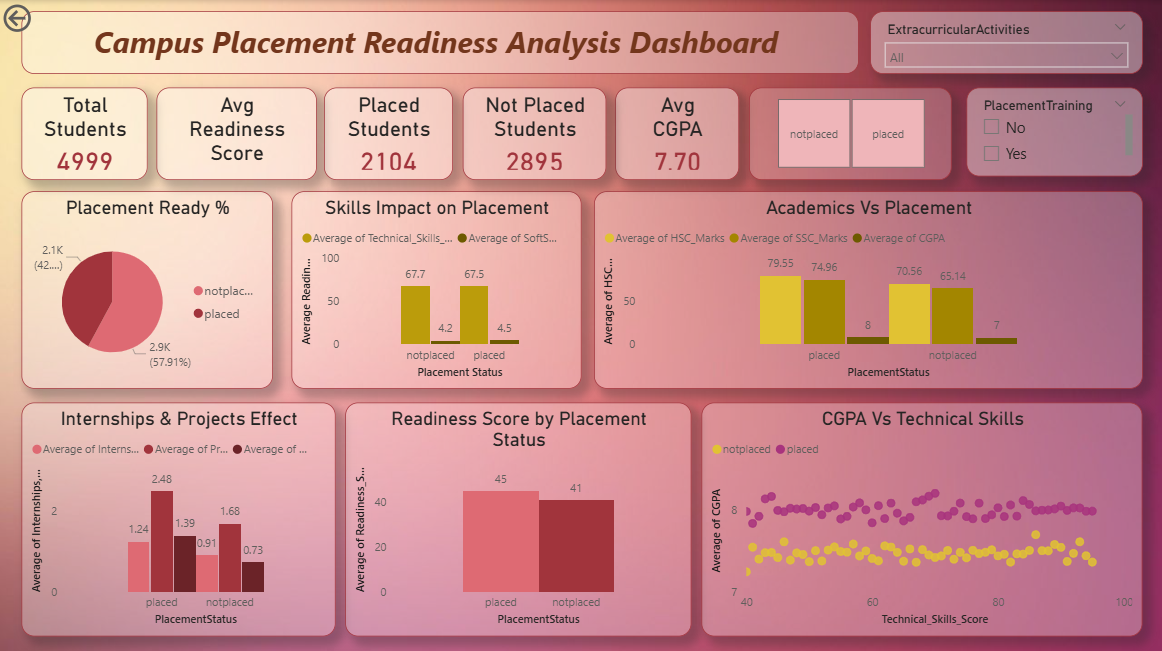

This screenshot's page, from the dashboard's own definition file:
{"tool":"powerbi","page":{"name":"Page 1","canvas":[1280,720],"ordinal":0},"visuals":[{"type":"textbox","box":[24.7,12.3,919.4,68.6],"z":0},{"type":"card","title":"Total Students","fields":{"Values":["Count(campus_placement_cleaned_final.StudentID)"]},"box":[24.7,96.1,138.6,101.5],"z":1000},{"type":"card","title":"Avg Readiness Score","fields":{"Values":["Avg(campus_placement_cleaned_final.Readiness_Score)"]},"box":[172.9,96.1,175.6,101.5],"z":2000},{"type":"card","title":"Placed Students","fields":{"Values":["CountNonNull(campus_placement_cleaned_final.StudentID)"]},"box":[356.8,96.1,141.3,101.5],"z":3000},{"type":"card","title":"Avg CGPA","fields":{"Values":["Avg(campus_placement_cleaned_final.CGPA)"]},"box":[676.5,96.1,135.8,101.5],"z":4000},{"type":"pieChart","title":" Placement Ready %","fields":{"Category":["campus_placement_cleaned_final.PlacementStatus"],"Y":["CountNonNull(campus_placement_cleaned_final.StudentID)"]},"box":[24.7,209.9,275.8,216.8],"z":5000},{"type":"slicer","fields":{"Values":["campus_placement_cleaned_final.PlacementStatus"]},"box":[823.3,96.1,222.3,101.5],"z":6000},{"type":"clusteredColumnChart","title":"Skills Impact on Placement","fields":{"Category":["campus_placement_cleaned_final.PlacementStatus"],"Y":["Avg(campus_placement_cleaned_final.Technical_Skills_Score)","Avg(campus_placement_cleaned_final.SoftSkillsRating)"]},"box":[321.1,209.9,318.4,216.8],"z":7000},{"type":"actionButton","box":[0,0,100,40],"z":8000},{"type":"clusteredColumnChart","title":"Academics Vs Placement","fields":{"Y":["Avg(campus_placement_cleaned_final.HSC_Marks)","Avg(campus_placement_cleaned_final.SSC_Marks)","Avg(campus_placement_cleaned_final.CGPA)"],"Category":["campus_placement_cleaned_final.PlacementStatus"]},"box":[653.2,209.9,602.4,216.8],"z":9000},{"type":"card","title":"Not Placed Students","fields":{"Values":["CountNonNull(campus_placement_cleaned_final.StudentID)"]},"box":[509.1,96.1,157.8,101.5],"z":10000},{"type":"clusteredColumnChart","title":"Internships & Projects Effect","fields":{"Category":["campus_placement_cleaned_final.PlacementStatus"],"Y":["Avg(campus_placement_cleaned_final.Internships)","Avg(campus_placement_cleaned_final.Projects)","Avg(campus_placement_cleaned_final.Workshops/Certifications)"]},"box":[24.7,441.9,344.4,256.6],"z":11000},{"type":"clusteredColumnChart","title":"Readiness Score by Placement Status","fields":{"Category":["campus_placement_cleaned_final.PlacementStatus"],"Y":["Avg(campus_placement_cleaned_final.Readiness_Score)"]},"box":[380.1,441.9,380.1,256.6],"z":12000},{"type":"scatterChart","title":"CGPA Vs Technical Skills","fields":{"Y":["Avg(campus_placement_cleaned_final.CGPA)"],"X":["campus_placement_cleaned_final.Technical_Skills_Score"],"Series":["campus_placement_cleaned_final.PlacementStatus"]},"box":[771.2,441.9,484.4,256.6],"z":13000},{"type":"slicer","title":"Placed Students","fields":{"Values":["campus_placement_cleaned_final.PlacementTraining"]},"box":[1062.1,96.1,193.5,97.4],"z":14000},{"type":"slicer","title":"Placed Students","fields":{"Values":["campus_placement_cleaned_final.ExtracurricularActivities"]},"box":[956.4,12.3,299.1,68.6],"z":15000}]}

Visuals, with their boxes in screenshot pixels (x1, y1, x2, y2), scaled from the page's 1280x720 canvas onto the 1162x651 screenshot:
textbox: l=22, t=11, r=857, b=73
"Total Students" card: l=22, t=87, r=148, b=179
"Avg Readiness Score" card: l=157, t=87, r=316, b=179
"Placed Students" card: l=324, t=87, r=452, b=179
"Avg CGPA" card: l=614, t=87, r=737, b=179
" Placement Ready %" pieChart: l=22, t=190, r=273, b=386
slicer - campus_placement_cleaned_final.PlacementStatus: l=747, t=87, r=949, b=179
"Skills Impact on Placement" clusteredColumnChart: l=291, t=190, r=581, b=386
actionButton: l=0, t=0, r=91, b=36
"Academics Vs Placement" clusteredColumnChart: l=593, t=190, r=1140, b=386
"Not Placed Students" card: l=462, t=87, r=605, b=179
"Internships & Projects Effect" clusteredColumnChart: l=22, t=400, r=335, b=632
"Readiness Score by Placement Status" clusteredColumnChart: l=345, t=400, r=690, b=632
"CGPA Vs Technical Skills" scatterChart: l=700, t=400, r=1140, b=632
"Placed Students" slicer: l=964, t=87, r=1140, b=175
"Placed Students" slicer: l=868, t=11, r=1140, b=73
